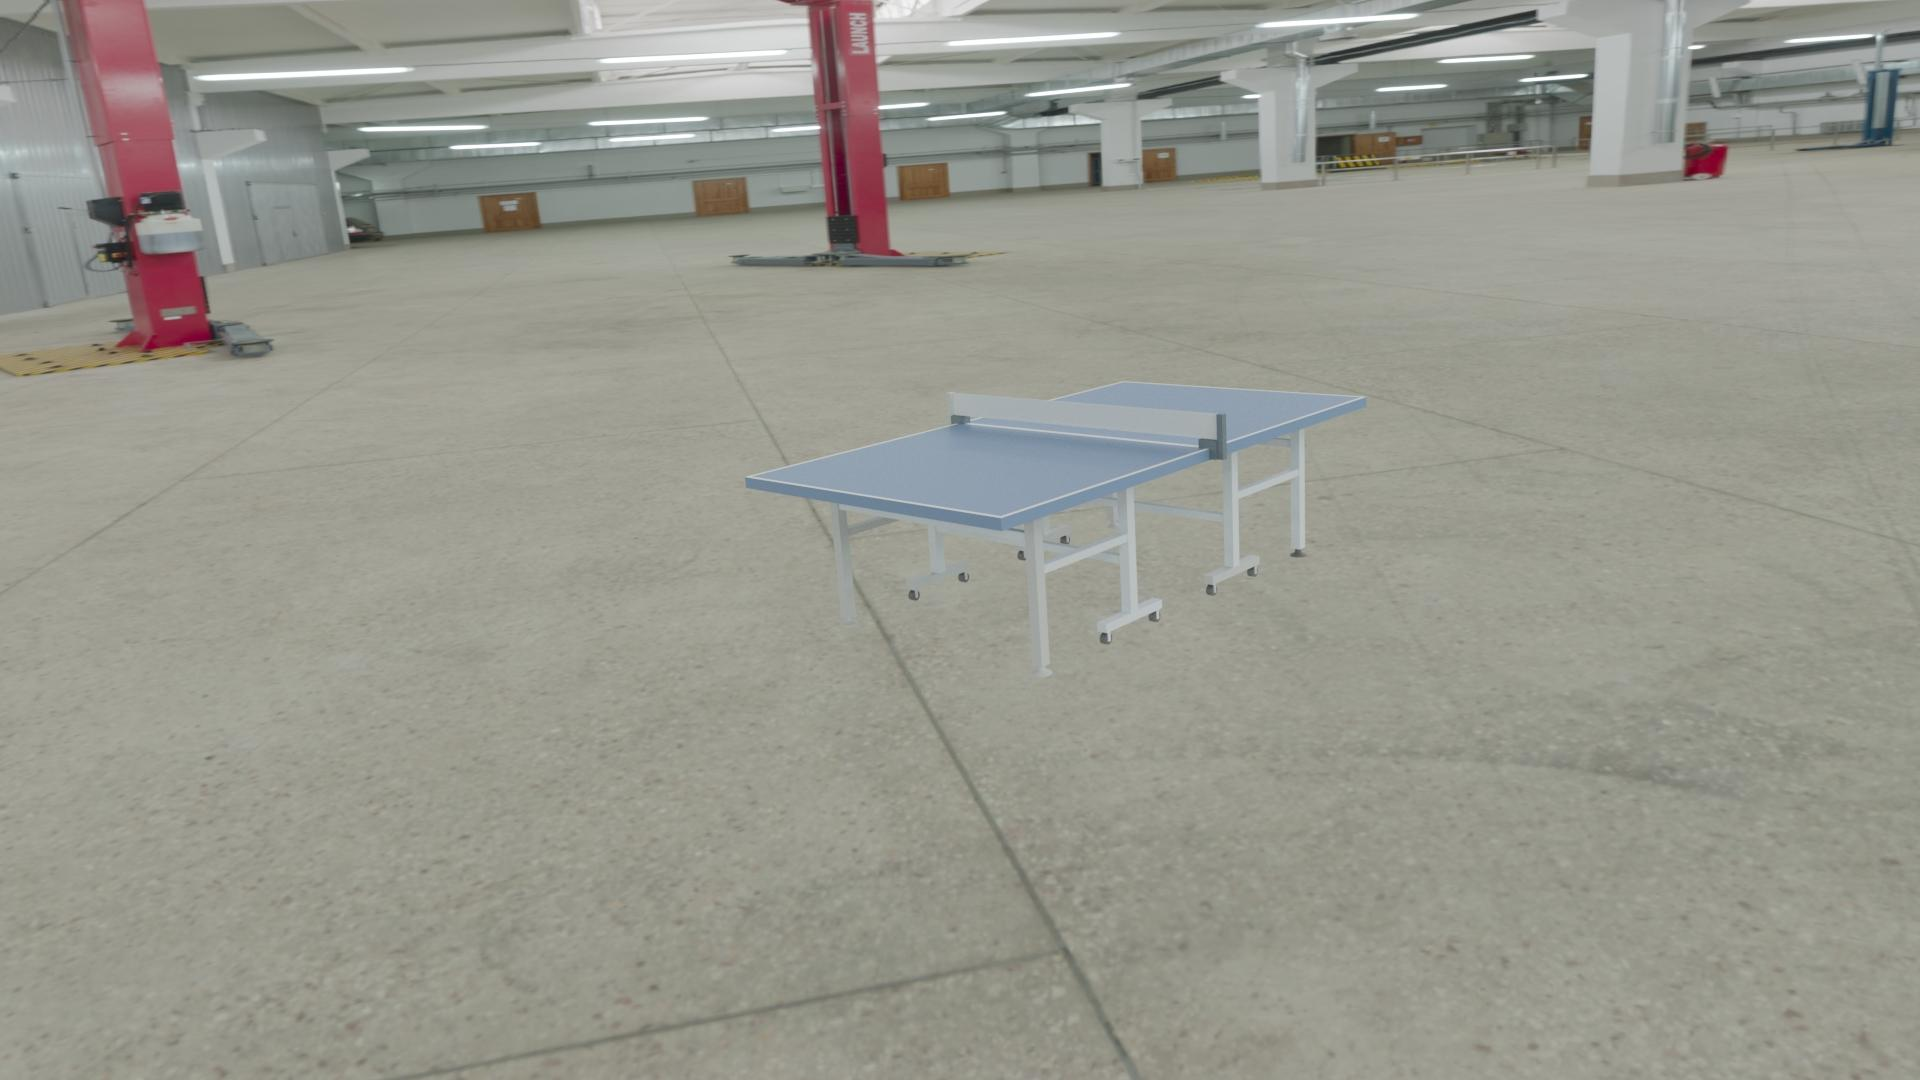table: (752, 382, 1361, 516)
